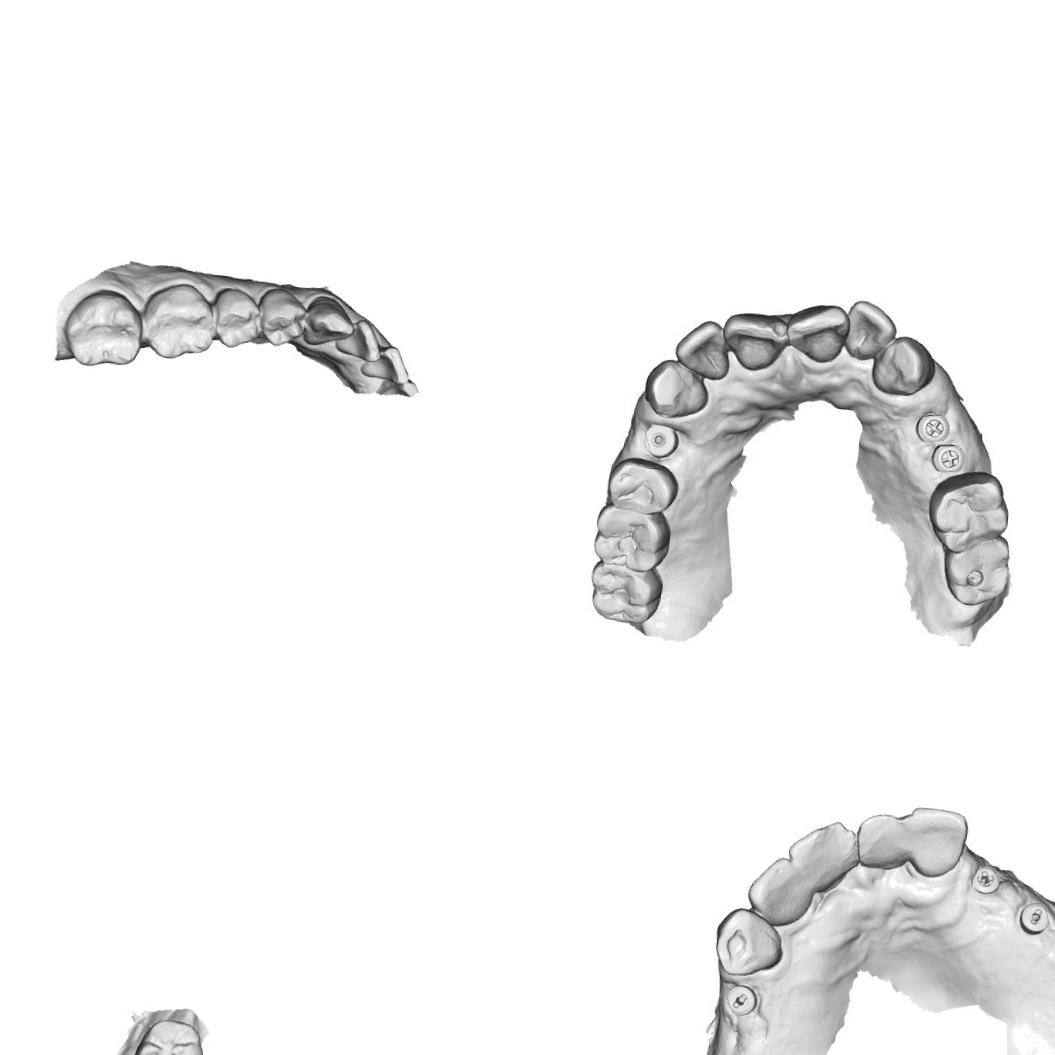canine: (711, 903, 784, 980), (642, 357, 716, 421), (870, 332, 936, 398), (297, 290, 358, 354)
implant: (639, 419, 676, 455)
implant_minus: (1010, 894, 1054, 940), (722, 982, 762, 1019)
implant_plus: (967, 858, 1002, 902), (911, 410, 949, 450), (930, 438, 965, 474)
incisor: (781, 814, 865, 902), (902, 803, 972, 882), (742, 852, 814, 928), (717, 310, 791, 372), (781, 302, 850, 364), (834, 298, 898, 364), (850, 809, 912, 872), (672, 318, 733, 380), (329, 314, 383, 364), (355, 340, 412, 387)
molar: (57, 284, 150, 371), (134, 278, 222, 364), (928, 468, 1014, 550), (940, 535, 1012, 610), (584, 562, 662, 627), (596, 504, 662, 566), (128, 1014, 208, 1055)
premolar: (604, 454, 680, 518), (207, 282, 269, 352), (253, 281, 312, 350)
